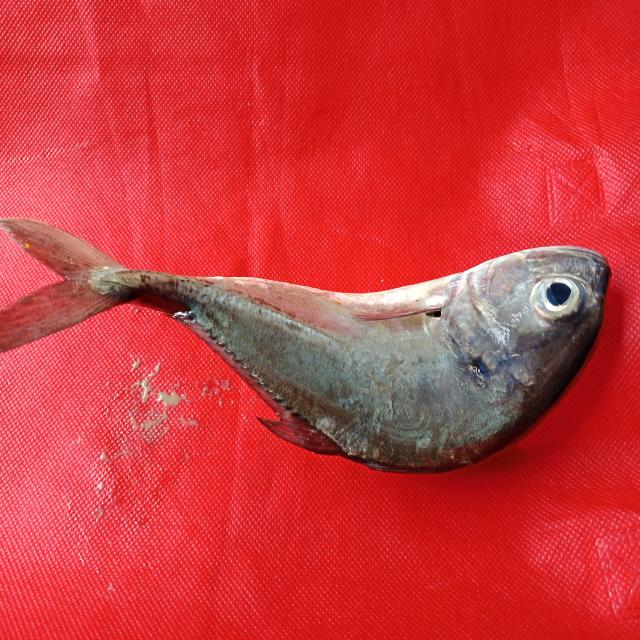ikan: (8, 176, 630, 499)
